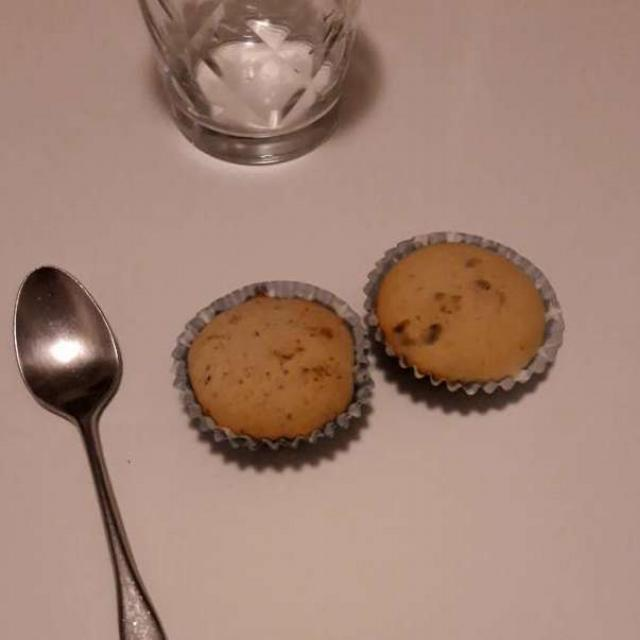muffin: (183, 233, 542, 430)
